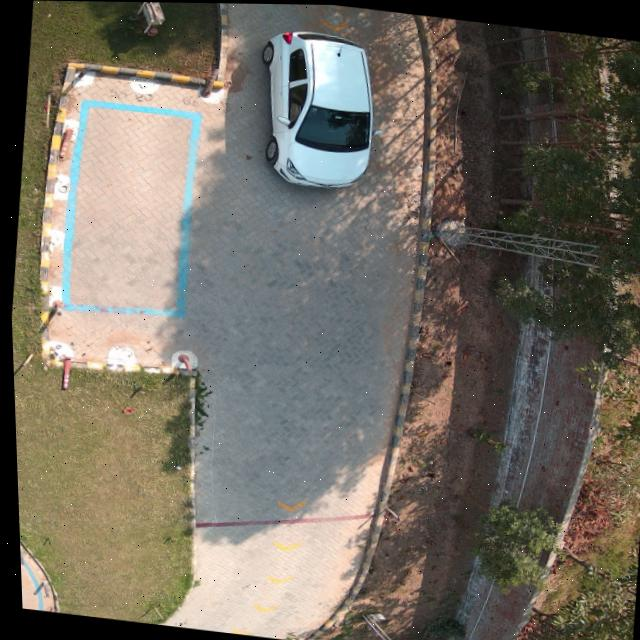car: (261, 30, 370, 186)
